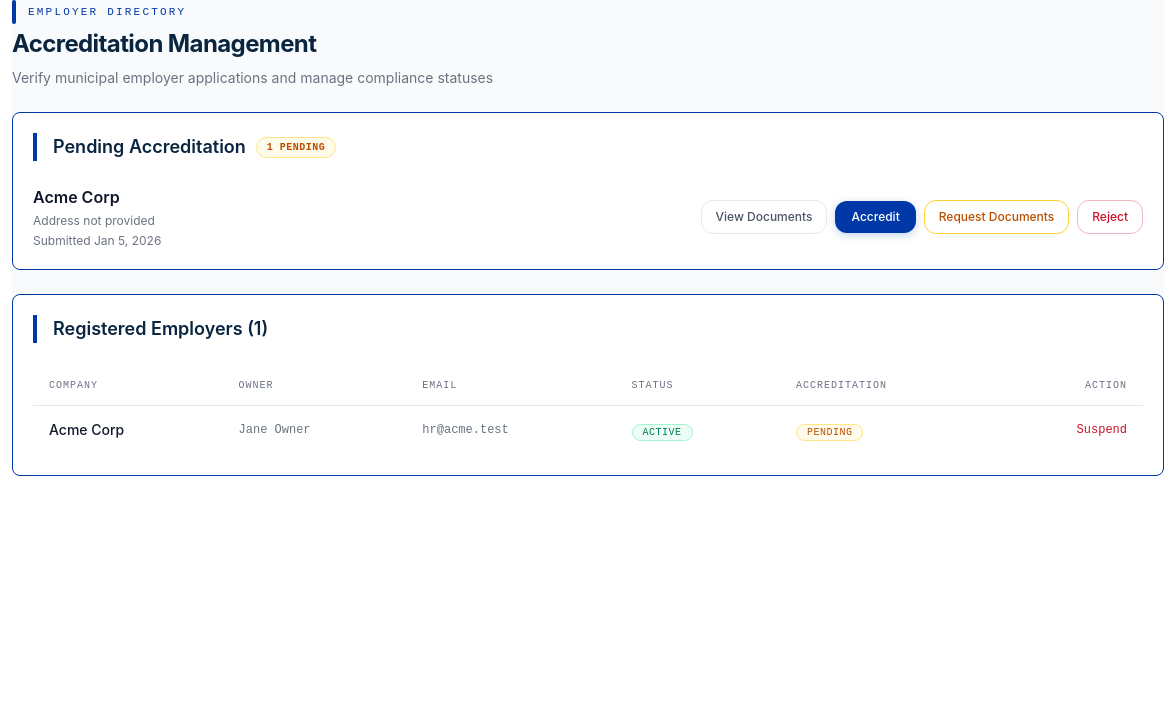
Scenario: Accreditation mutation error handling (S4) › surfaces the error banner when suspending an employer fails
This screenshot has width=1164, height=720.
Click the button "Suspend" at [1102, 430], box 1077,422 -> 1127,438
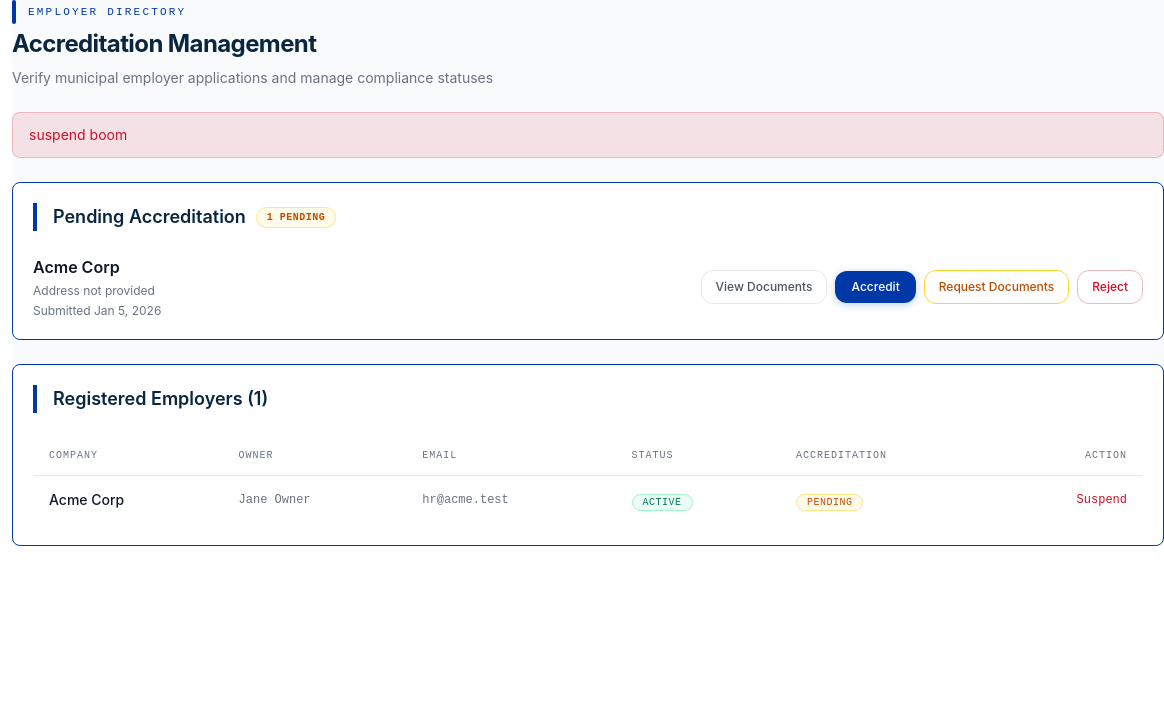
Expected: the message reads "suspend boom", 29,126 -> 127,143
